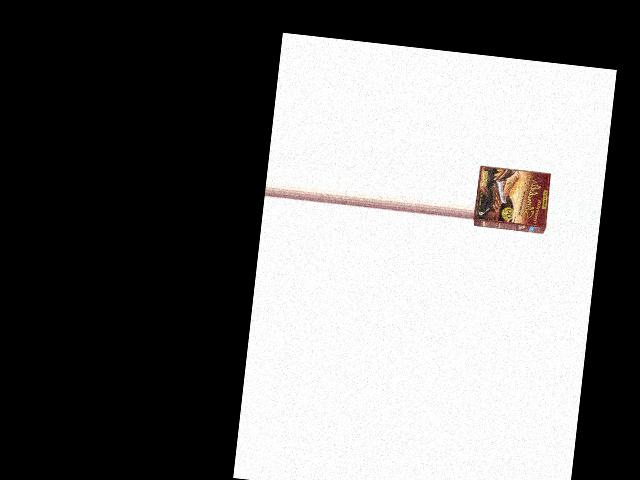chocolate: (471, 158, 553, 237)
